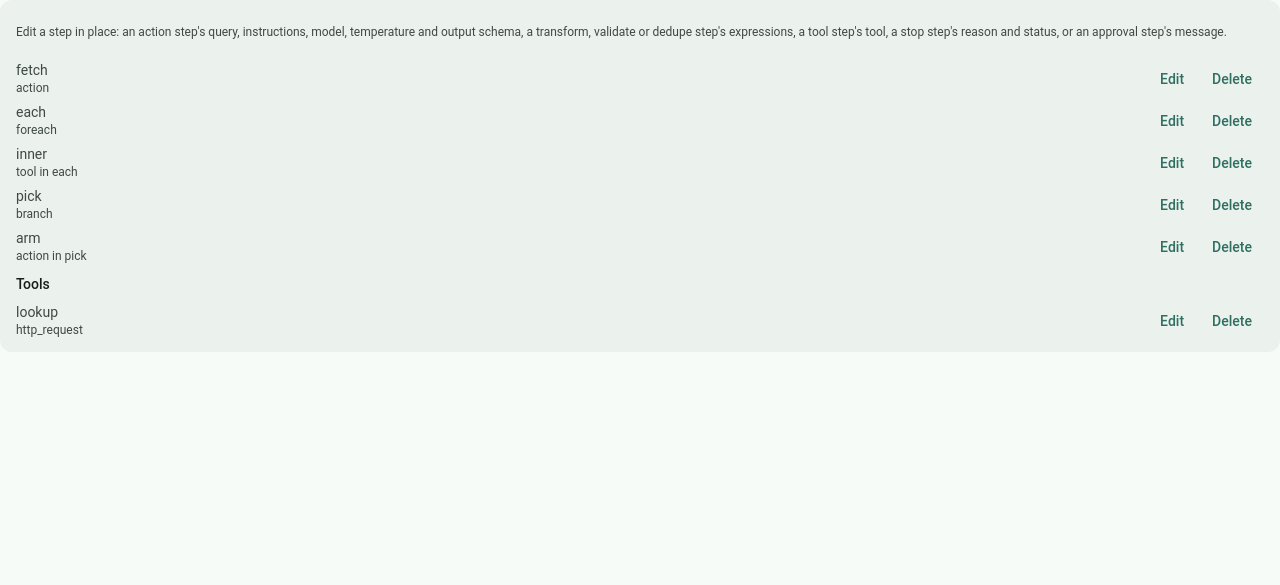
Test: StepsPanel delete › blocks a tool a step uses with its own wording
The image size is (1280, 585).
Step 1. Click the button with aria-label "Delete tool lookup" → {"x": 1232, "y": 321}, box x1=1200 y1=303 x2=1264 y2=339
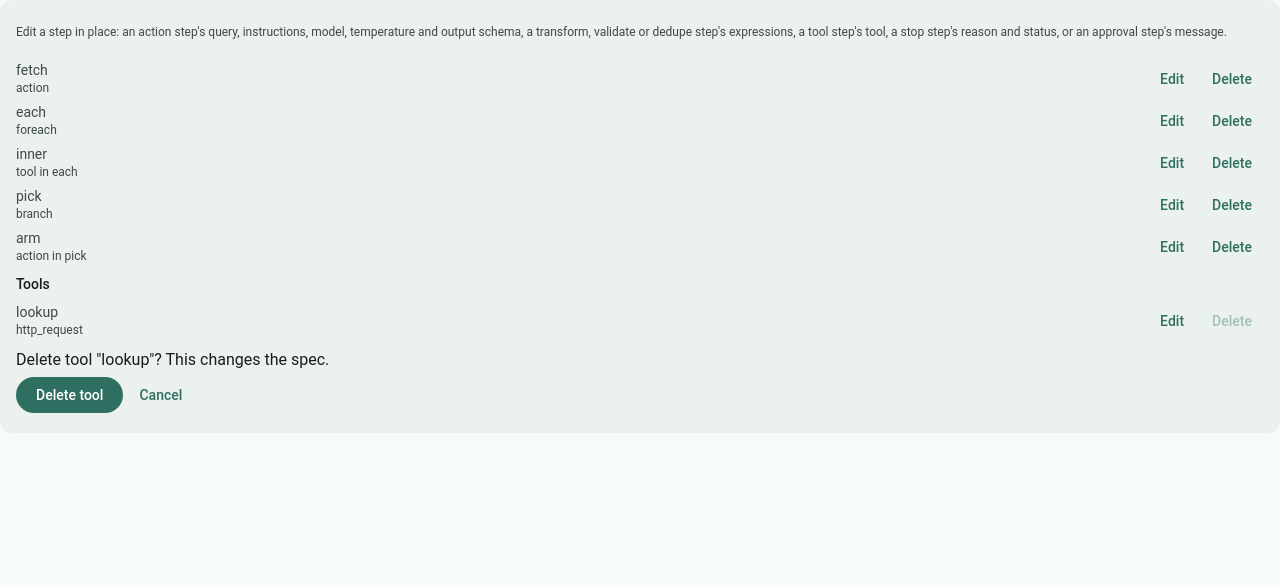
Step 2. Click the button "Delete tool" → {"x": 70, "y": 395}, box x1=16 y1=377 x2=123 y2=413
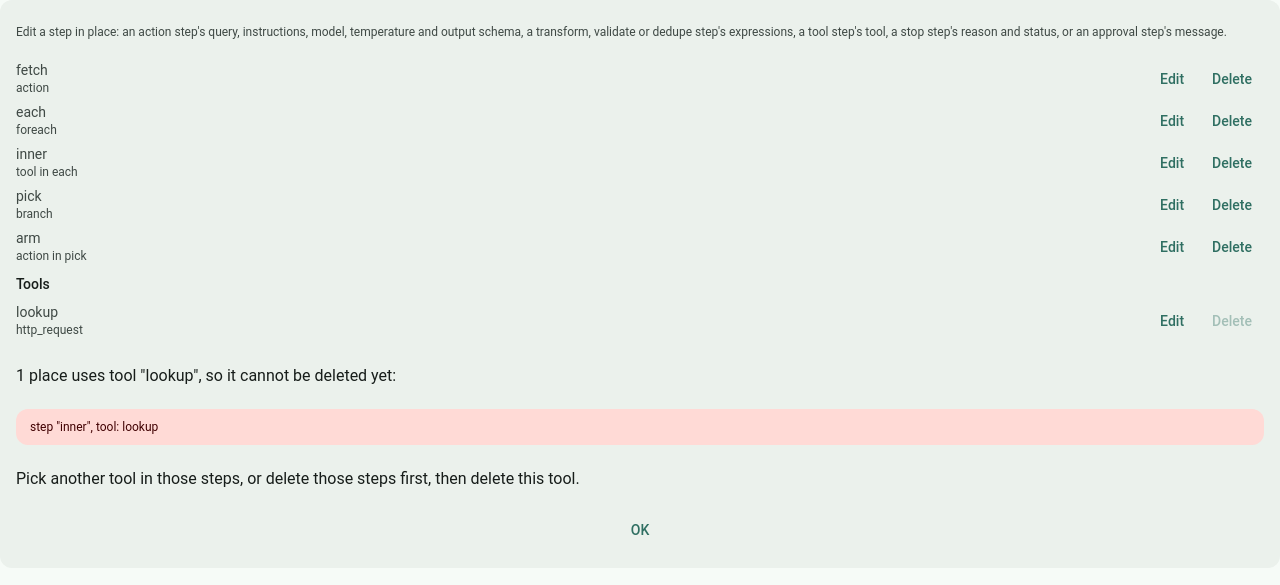
Check: the message shows "1 place uses tool \"lookup\"", box x1=16 y1=342 x2=1264 y2=556
Check: the message shows "Pick another tool", box x1=16 y1=469 x2=580 y2=488
